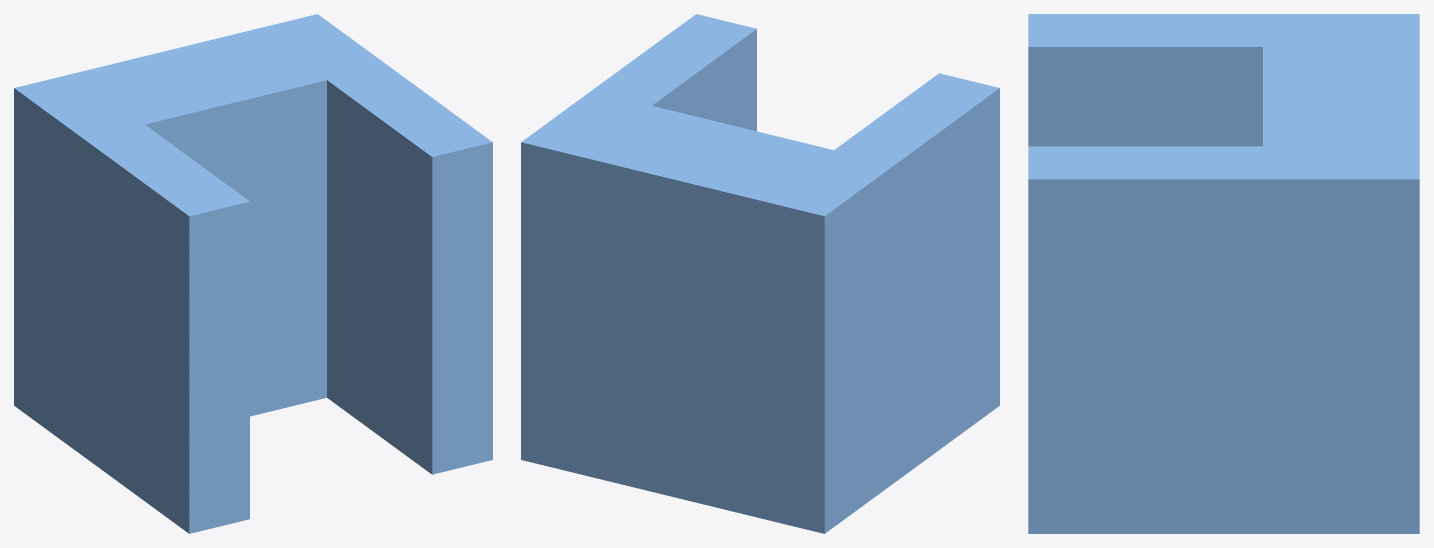
File: hallway.glb
3 renders of one model, left to right at view 1: azimuth 30°, elevation 25°; view 2: azimuth 150°, elevation 25°; view 3: azimuth 270°, elevation 25°, orthographic. The views are drawn at different scales.
Visible parts, largest first — view 1: imagetostl_mesh0; view 2: imagetostl_mesh0; view 3: imagetostl_mesh0.
Boxes of the visible parts, x1=… form: imagetostl_mesh0: x1=14, y1=14, x2=492, y2=533; imagetostl_mesh0: x1=521, y1=14, x2=999, y2=533; imagetostl_mesh0: x1=1028, y1=14, x2=1419, y2=533.
Size of the model in its own units: 0.0075 by 0.0075 by 0.0075.
